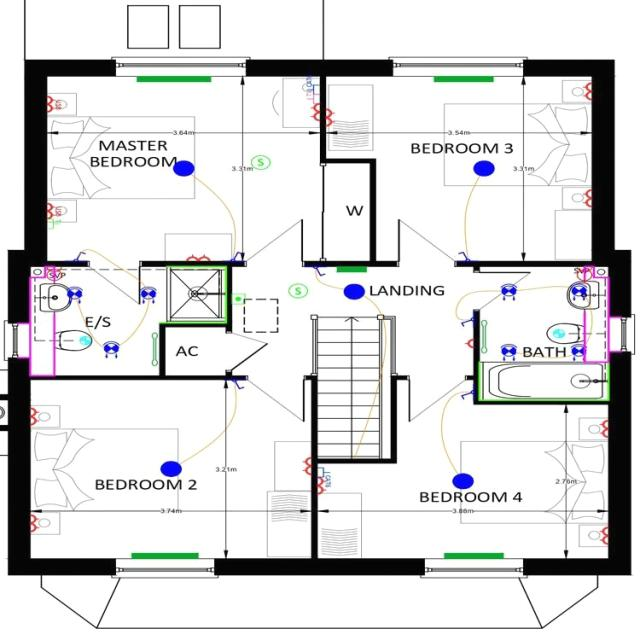Cat 6 Data Socket: (317, 461, 341, 477), (298, 79, 322, 94)
Ceiling Mounted Continuous Extract Fan With Boost Mode Activated By Light Switch: (545, 320, 576, 340), (77, 329, 93, 354)
Co-Ax TV Socket: (301, 93, 321, 102)
Double Socket: (178, 244, 220, 262), (572, 80, 596, 106), (577, 180, 595, 213), (326, 97, 340, 133), (31, 507, 47, 537), (597, 514, 611, 548), (317, 474, 333, 500), (300, 453, 316, 479), (32, 399, 45, 431), (307, 101, 322, 125), (596, 416, 611, 439)
Full Height Tiling: (477, 358, 614, 402), (166, 262, 230, 324)
Light Switch: (307, 264, 334, 283), (458, 380, 478, 402), (454, 244, 477, 261), (66, 247, 90, 261), (228, 379, 252, 392), (461, 310, 474, 333), (228, 245, 246, 260)
Low Energy Downlighter: (95, 333, 129, 362), (566, 282, 597, 313), (493, 340, 530, 365), (498, 276, 523, 309), (137, 281, 159, 315), (64, 280, 87, 309), (568, 339, 592, 361)
Low Energy Pendant Light: (153, 448, 190, 480), (448, 465, 482, 495), (167, 155, 200, 180), (471, 158, 496, 186), (343, 282, 368, 303)
Mains Wired Smoke Detector: (248, 146, 276, 175), (282, 280, 310, 304)
Programmable Room Thermostat: (231, 288, 251, 312)
Radiator: (122, 544, 207, 562), (440, 544, 513, 559), (136, 74, 214, 86), (428, 74, 503, 84), (332, 264, 375, 273)
Shaver Socket: (38, 262, 70, 283), (567, 264, 598, 282)
Single Socket: (461, 328, 475, 352)
Telephone Socket: (47, 217, 66, 233)
USB Double Socket: (47, 90, 63, 122), (44, 199, 64, 219)
